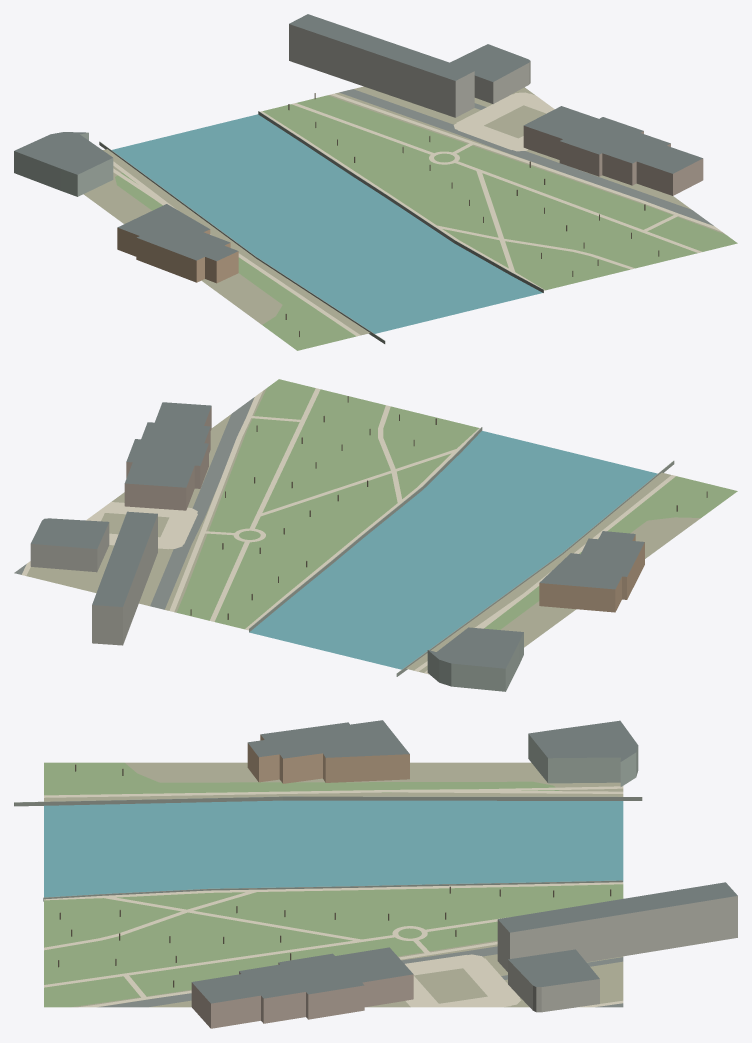
File: sector--3_-4.glb
3 views of the same model, one above another, from view 1: azimuth 30°, elevation 25°; view 2: azimuth 150°, elevation 25°; view 3: azimuth 270°, elevation 25° (orthographic). The views are drawn at different scales.
Visible parts, largest first — view 1: -3:-4-water, -3:-4-park, -3:-4-facade, -3:-4-roof, -3:-4-ground, -3:-4-paving, -3:-4-road, -3:-4-bank; view 2: -3:-4-water, -3:-4-park, -3:-4-roof, -3:-4-facade, -3:-4-ground, -3:-4-paving, -3:-4-road, -3:-4-bank; view 3: -3:-4-water, -3:-4-park, -3:-4-facade, -3:-4-roof, -3:-4-ground, -3:-4-paving, -3:-4-bank, -3:-4-road.
Boxes of the visible parts, x1,y1,x2,y2 form: -3:-4-water: (112,114,542,333); -3:-4-park: (115,95,737,350); -3:-4-facade: (14,24,703,283); -3:-4-roof: (14,14,702,261); -3:-4-ground: (83,86,725,335); -3:-4-paving: (113,92,721,336); -3:-4-road: (339,89,713,225); -3:-4-bank: (99,111,543,343); -3:-4-water: (249,431,657,669); -3:-4-park: (176,379,737,629); -3:-4-roof: (31,402,644,668); -3:-4-facade: (30,406,644,691); -3:-4-ground: (25,388,700,674); -3:-4-paving: (21,388,675,673); -3:-4-road: (14,397,254,609); -3:-4-bank: (249,427,674,676); -3:-4-water: (44,800,623,897); -3:-4-park: (44,762,623,1007); -3:-4-facade: (191,734,737,1028); -3:-4-roof: (192,720,737,1003); -3:-4-ground: (44,762,623,1007); -3:-4-paving: (44,786,623,1007); -3:-4-bank: (14,796,642,901); -3:-4-road: (98,946,623,1007).
Size of the model in its own units: 232 by 16.85 by 250.
